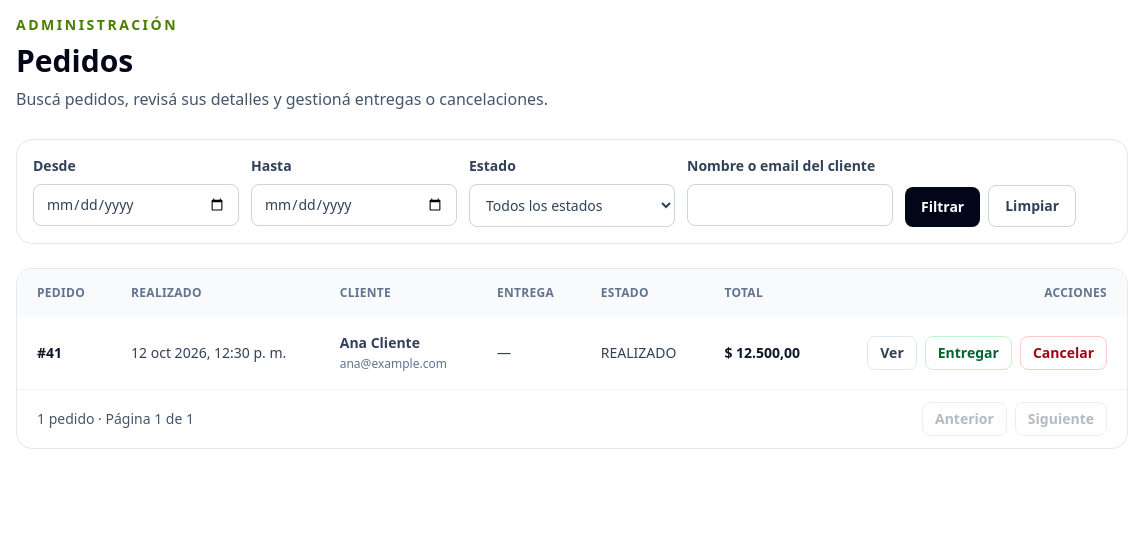
it: consulta y gestión de pedidos › cancela pedidos realizados con confirmación e informa la transición exitosa
Step 1. Click the button "Cancelar" → (1063, 353), box [1020, 336, 1107, 370]
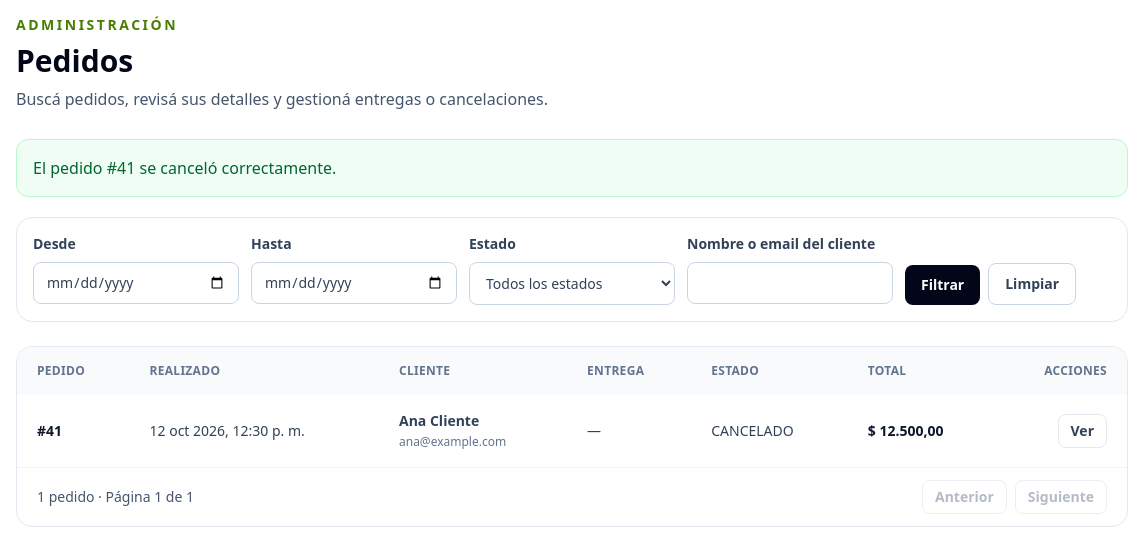
Check: the message reads "El pedido #41 se canceló correctamente.", box [33, 157, 336, 179]
Check: the text "CANCELADO" is shown, box [691, 395, 848, 467]
Check: the button "Entregar" is gone
